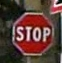stop: (10, 11, 55, 57)
